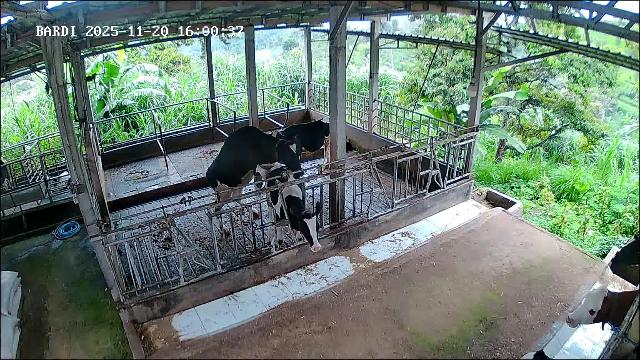mounting: (206, 127, 299, 237)
